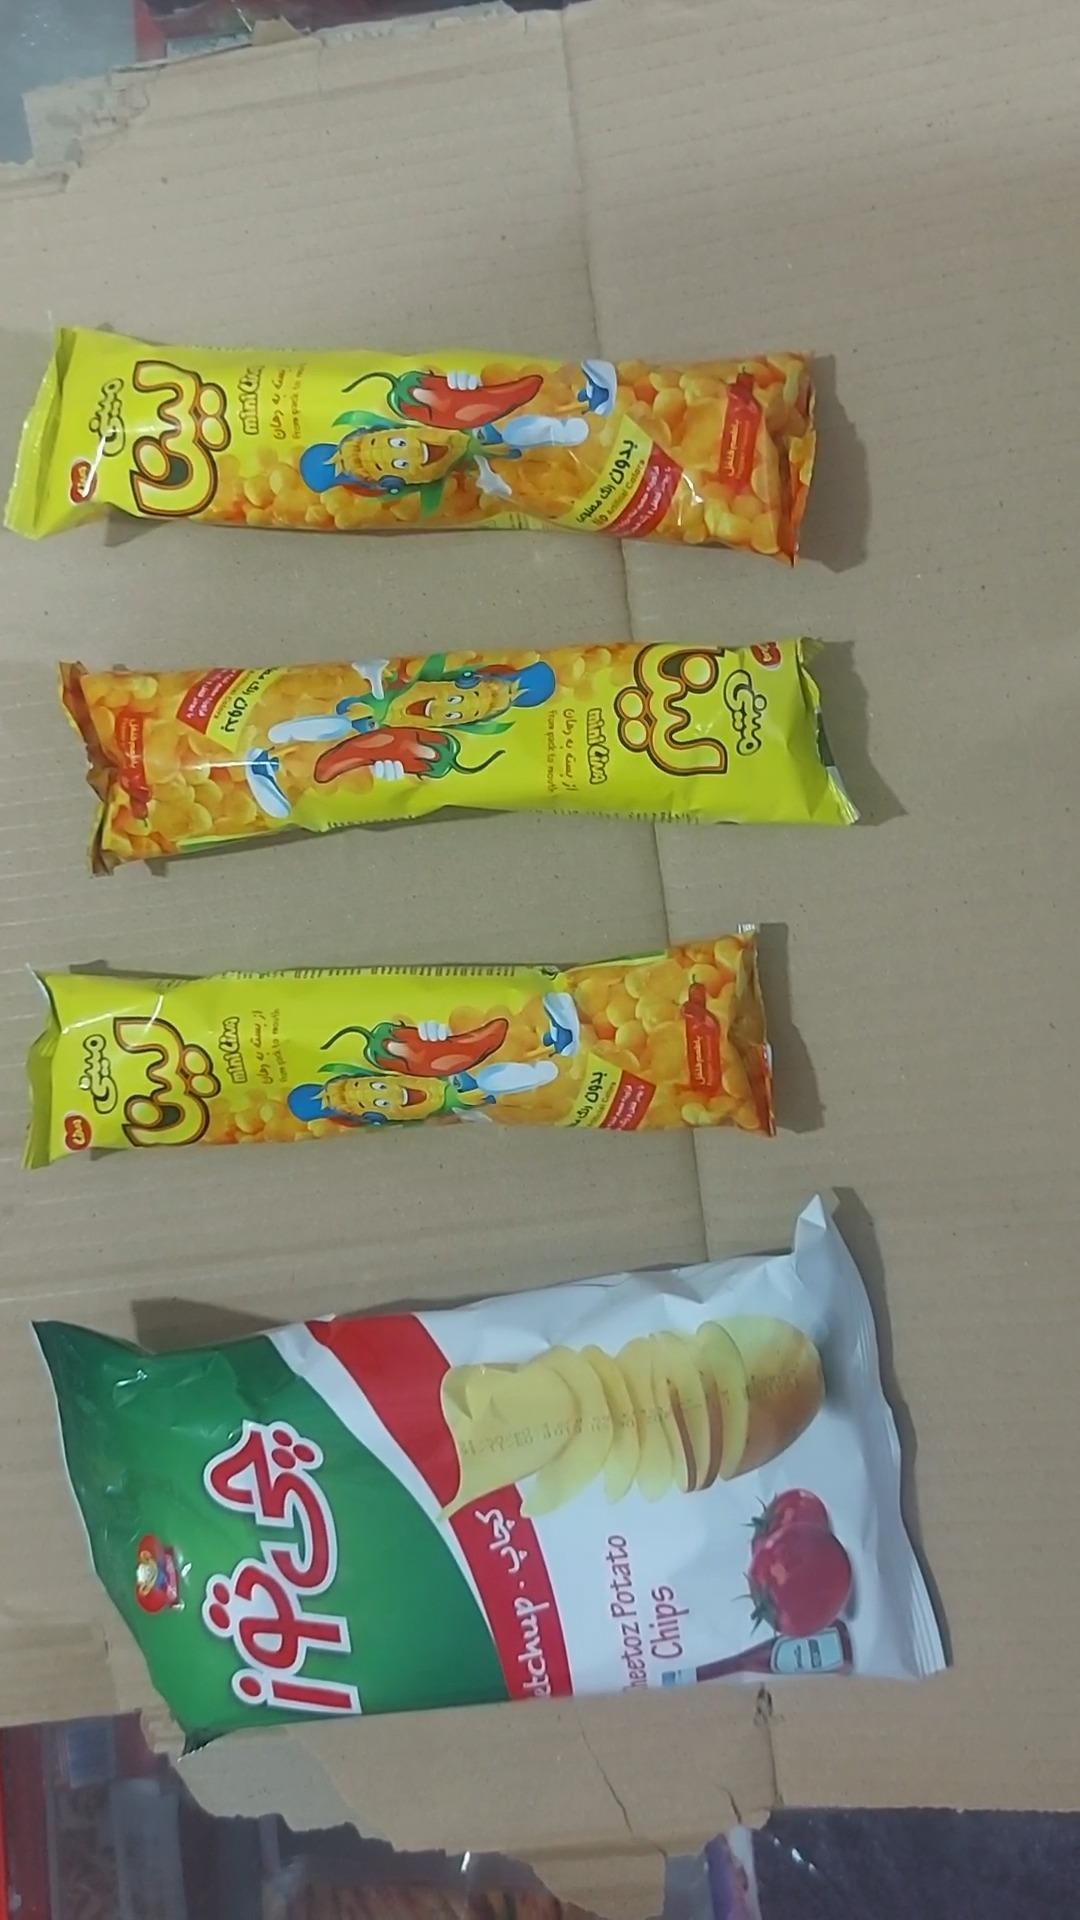Cheetoz ketchup chips: (26, 1196, 953, 1756)
Mini Lina: (3, 327, 818, 567), (59, 637, 862, 878), (21, 924, 778, 1171)
